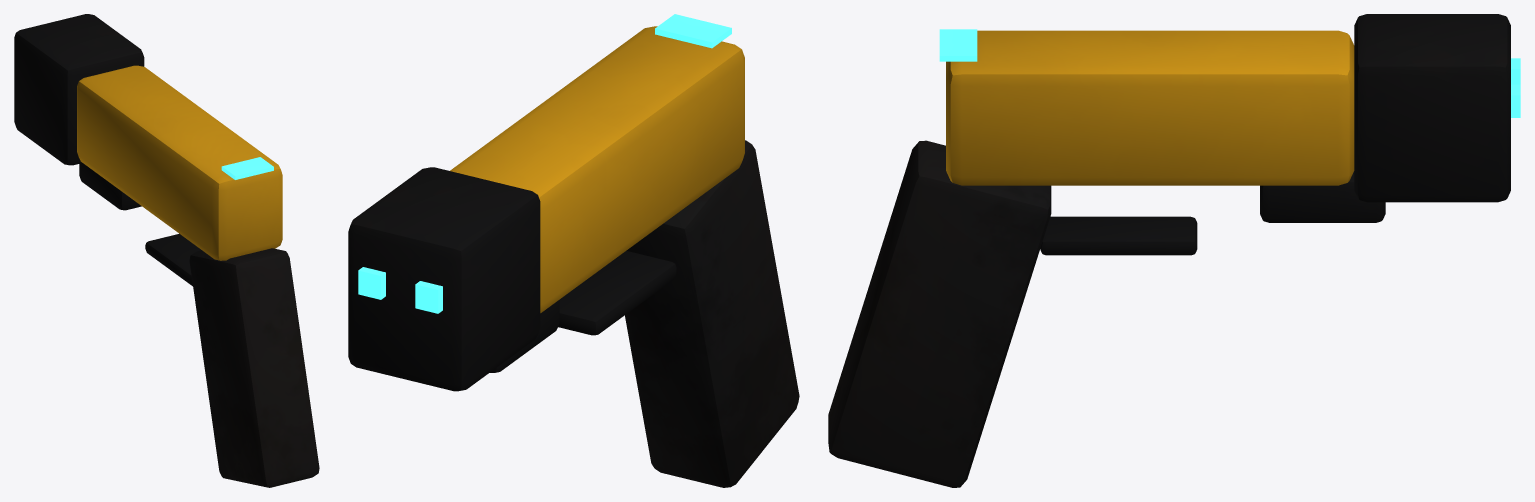
Rendered from taser.glb.
3 renders of one model, left to right at view 1: azimuth 30°, elevation 25°; view 2: azimuth 150°, elevation 25°; view 3: azimuth 270°, elevation 25°, orthographic. The views are drawn at different scales.
Parts seen in each view (by area): view 1: taser; view 2: taser; view 3: taser.
Boxes of the visible parts, x1,y1,x2,y2 form: taser: (14,14,319,487); taser: (348,14,799,487); taser: (828,14,1520,487).
Bounding box in the file's own units: 0.042 × 0.1532 × 0.2205.
Materials: 1 (1 with a texture image).
